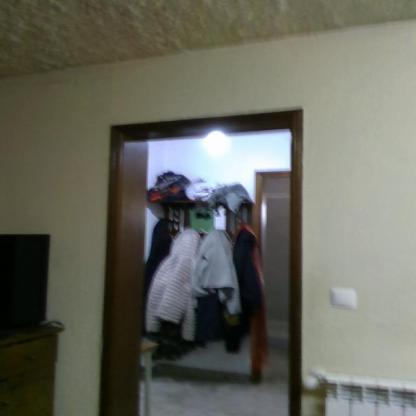door: (97, 100, 316, 415)
